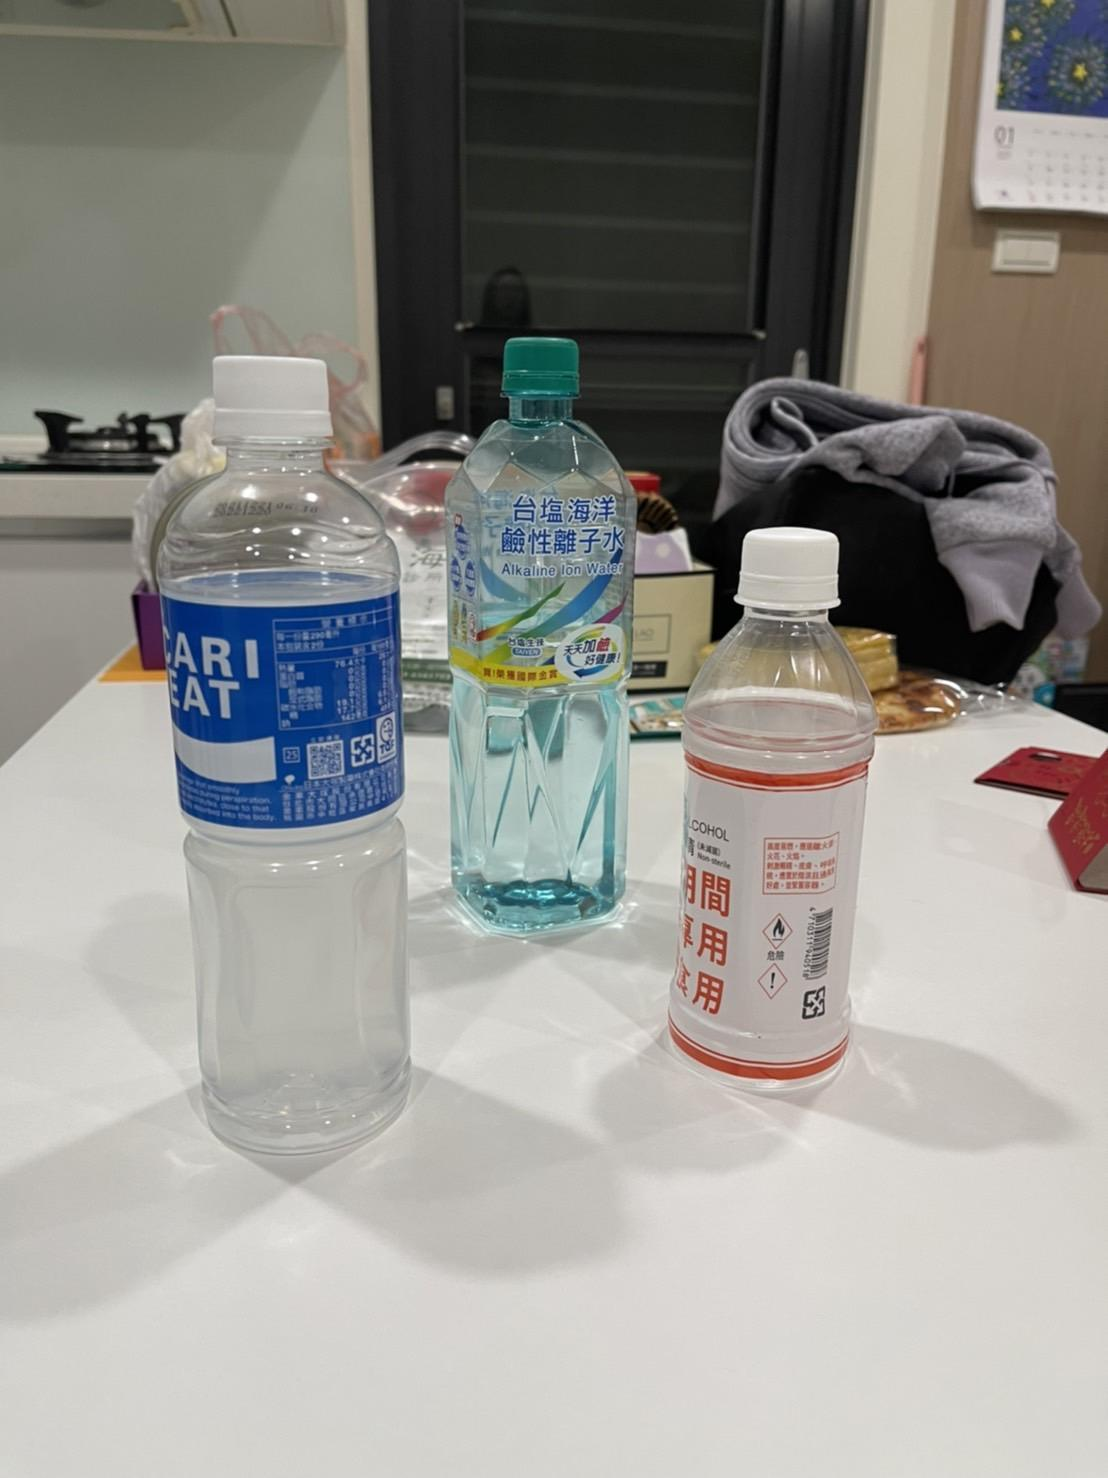bottle: (149, 349, 416, 1166), (661, 524, 890, 1094), (436, 315, 639, 935)
